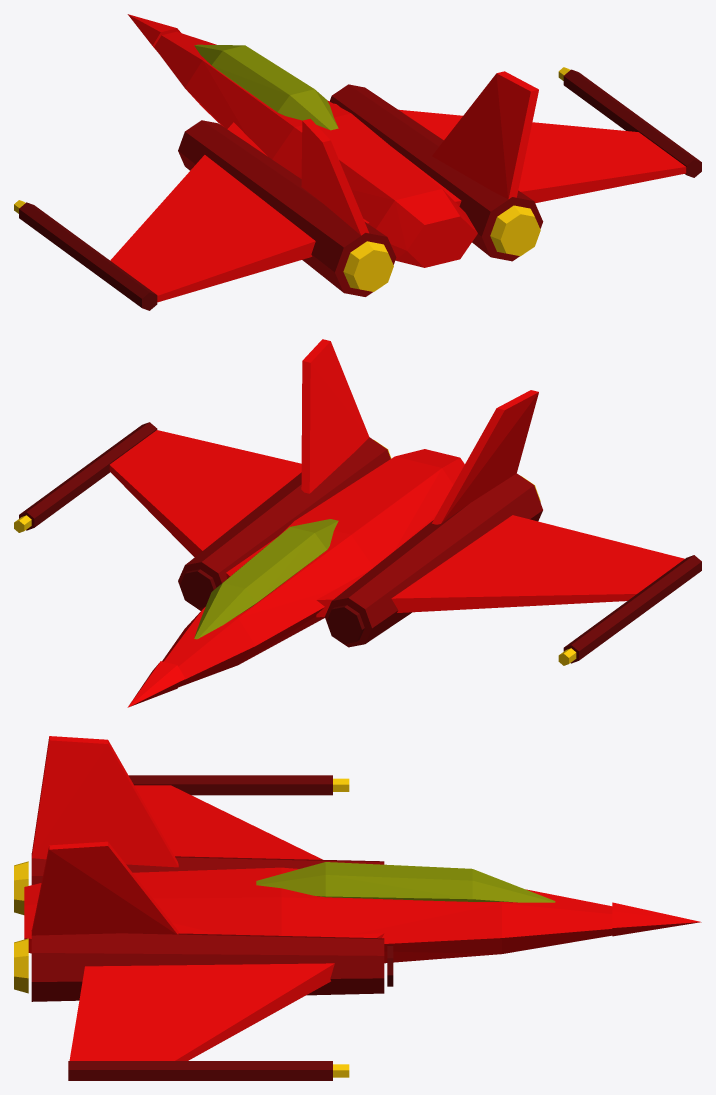
The model's file is kestrel_halo.glb.
3 views of the same model, one above another, from view 1: azimuth 30°, elevation 25°; view 2: azimuth 150°, elevation 25°; view 3: azimuth 270°, elevation 25° (orthographic). The views are drawn at different scales.
Visible parts, largest first — view 1: kestrel_halo; view 2: kestrel_halo; view 3: kestrel_halo.
Part boxes in pixels (x1,y1,x2,y2): kestrel_halo: [14, 14, 701, 310]; kestrel_halo: [14, 339, 701, 707]; kestrel_halo: [14, 736, 701, 1080].
Size of the model in its own units: 4.73 by 1.27 by 4.68.
